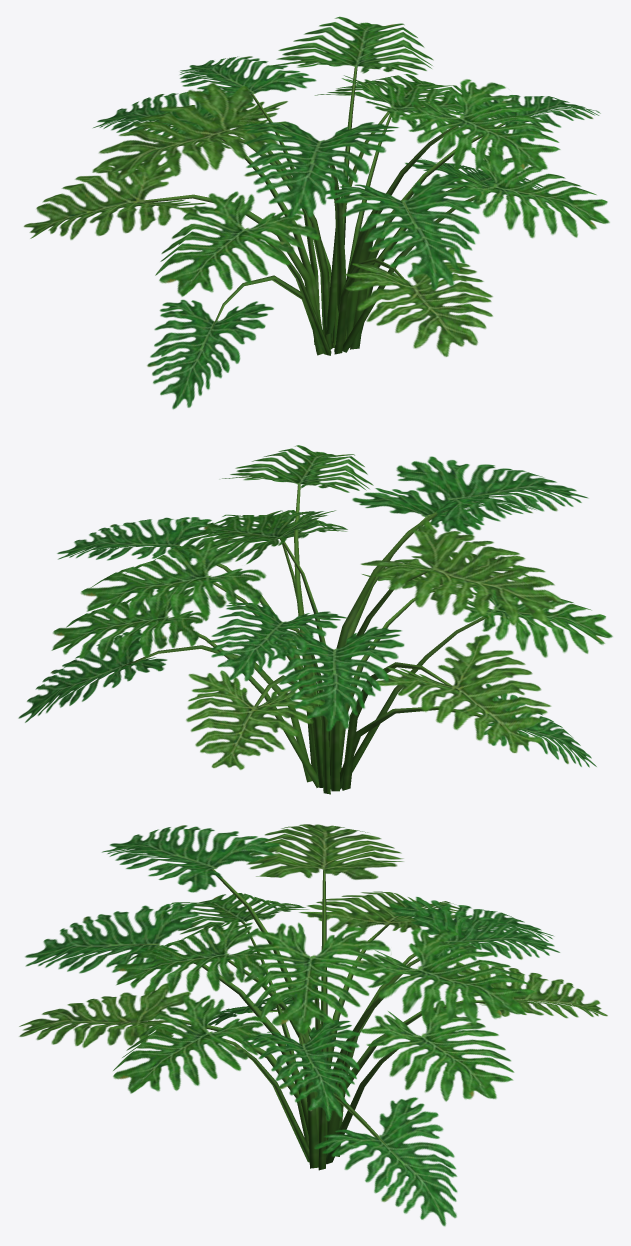
Rendered from plant2.glb.
3 renders of one model, top to bottom at view 1: azimuth 30°, elevation 25°; view 2: azimuth 150°, elevation 25°; view 3: azimuth 270°, elevation 25°, orthographic.
Size of the model in its own units: 2.91 by 1.42 by 2.86.
1 material, 1 textured.
